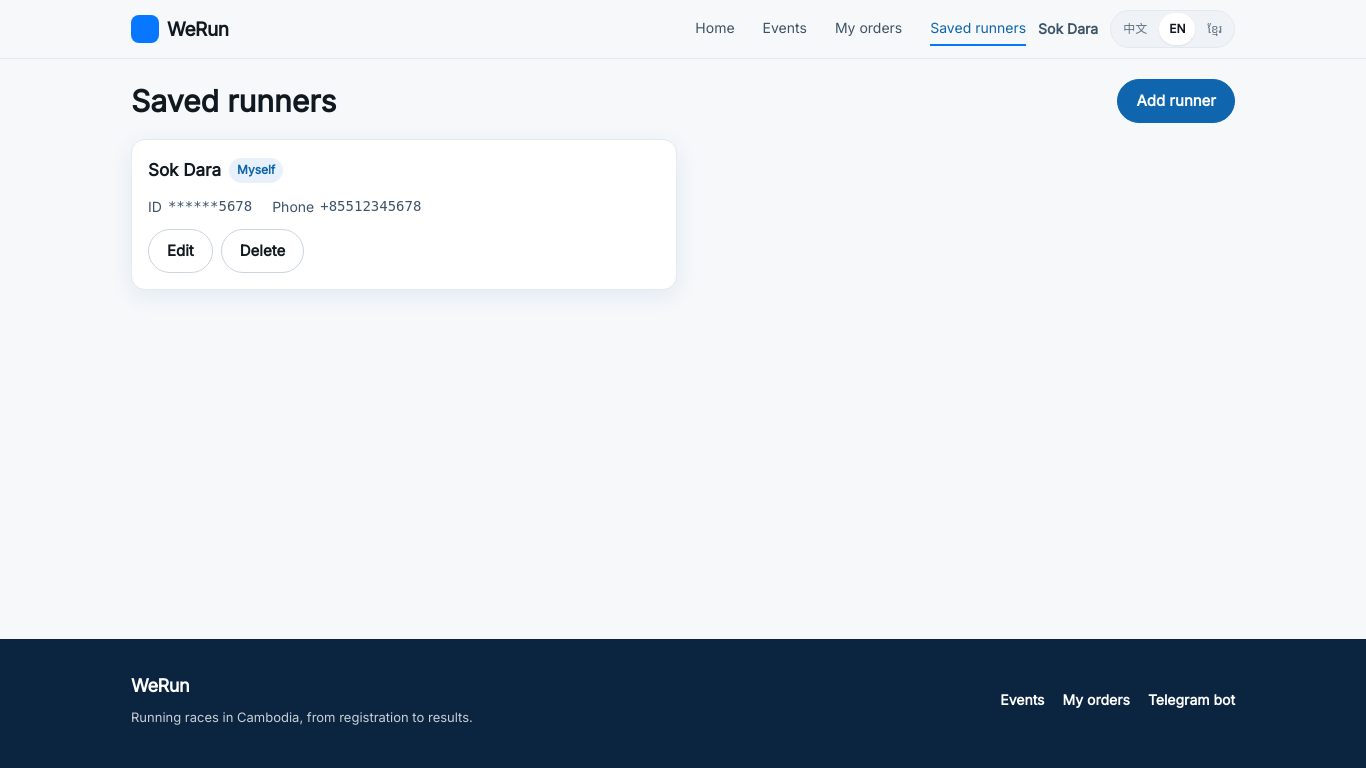
Test: ProfilesPage › 取消编辑回到列表，不发请求
Click the button with test id "profile-edit-7".
click(180, 251)  # box [148,229,213,273]
(page scrolled)
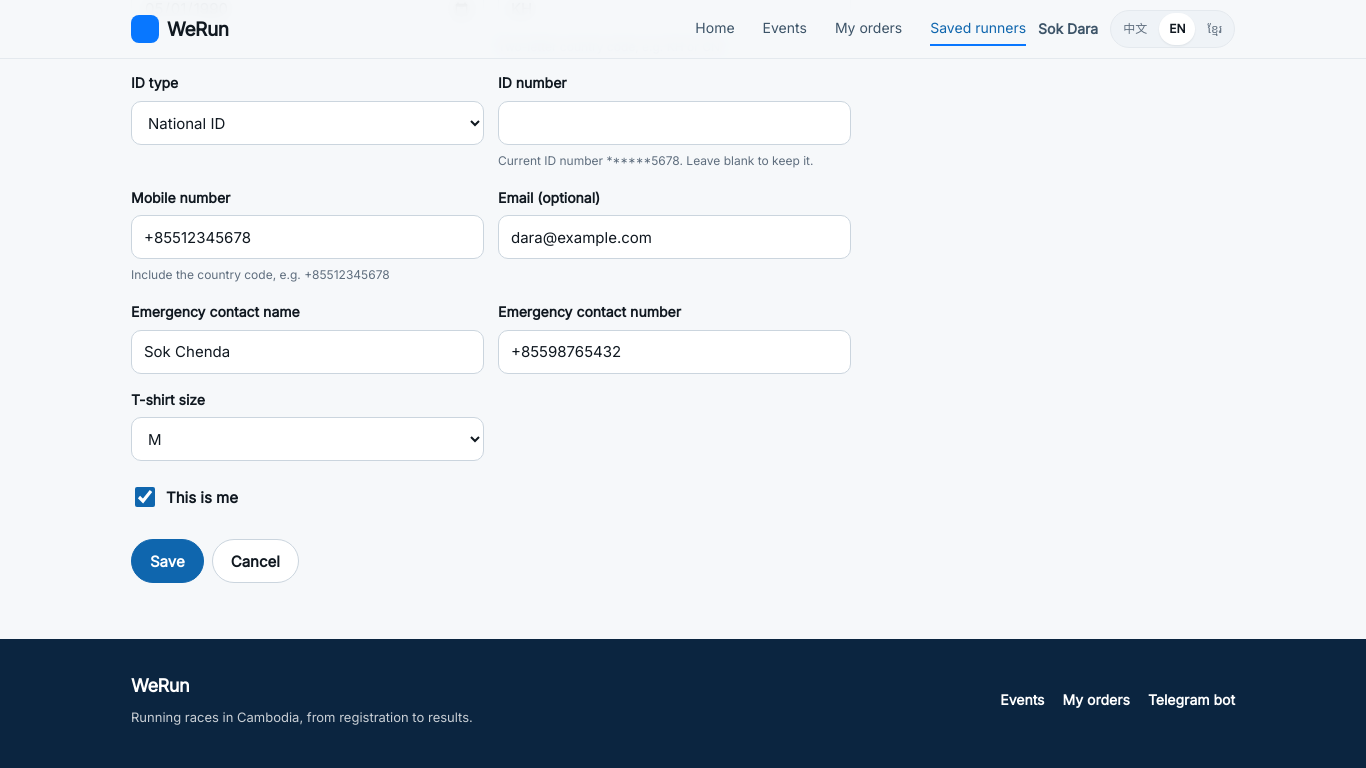
Click the button with test id "profile-cancel".
click(255, 562)  # box [212,540,299,584]
(page scrolled)
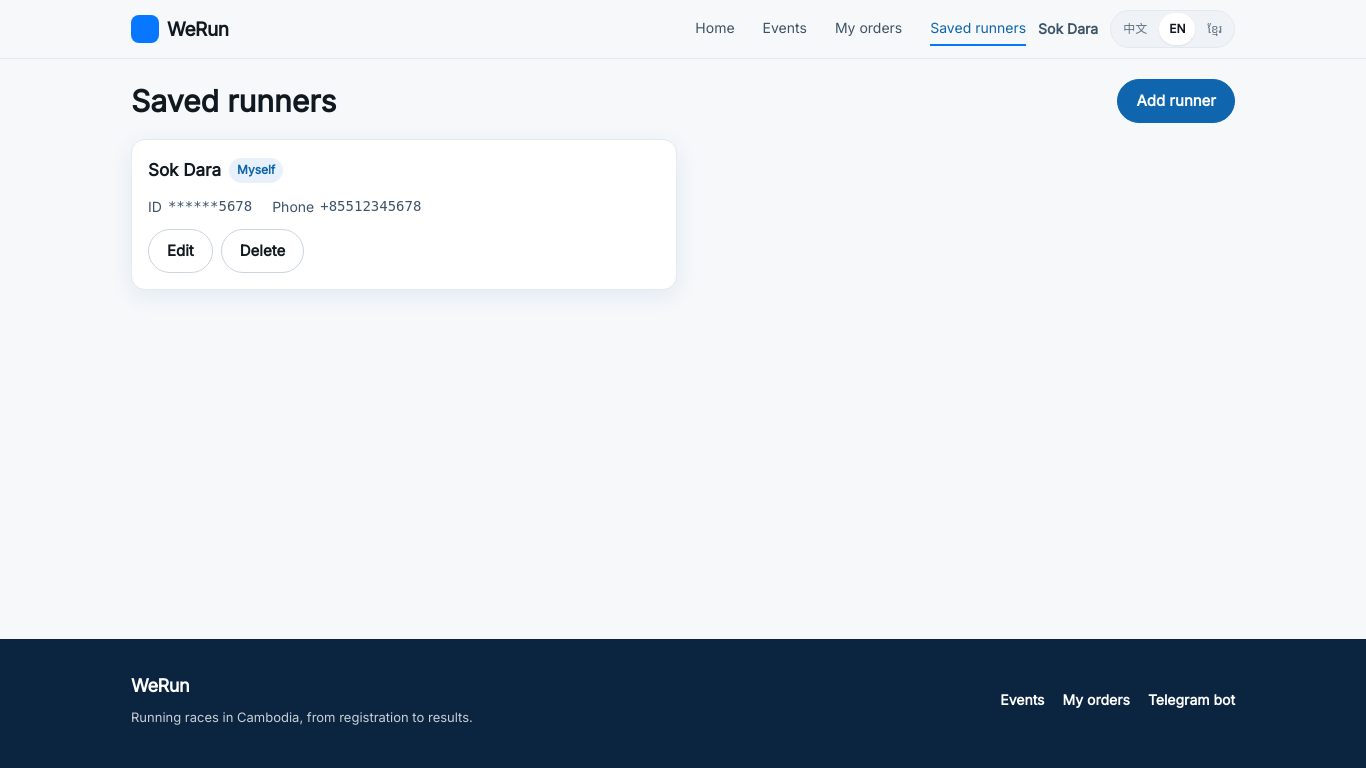
expect the list item with test id "profile-item-7" is shown: met, box [131,139,677,290]
